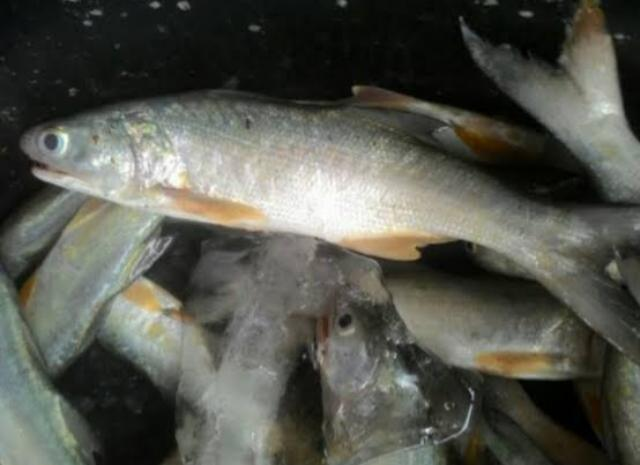Mulut: (12, 105, 112, 243), (300, 286, 380, 372)
Sirip Anal: (322, 213, 446, 273)
Sirip Dada: (138, 178, 276, 250)
Sirip Ekor: (442, 0, 630, 145), (514, 166, 640, 372)
